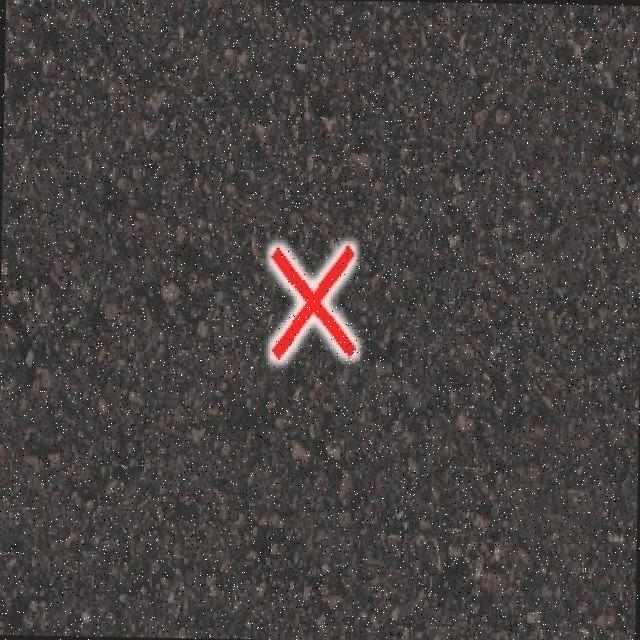x_marker: (268, 243, 356, 359)
